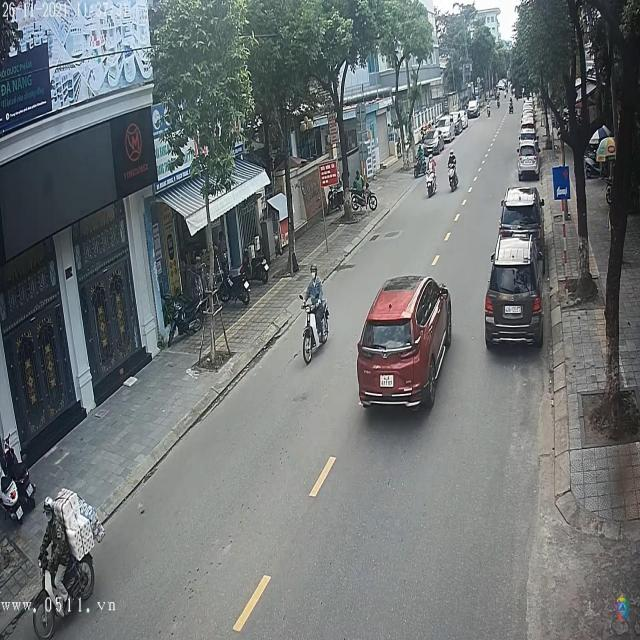car: (354, 273, 452, 408), (486, 230, 544, 349), (501, 186, 545, 240), (516, 146, 539, 180), (423, 126, 447, 154), (468, 98, 481, 118)
motorcycle: (28, 547, 102, 639), (300, 295, 331, 363), (424, 169, 438, 202), (448, 160, 459, 193)
